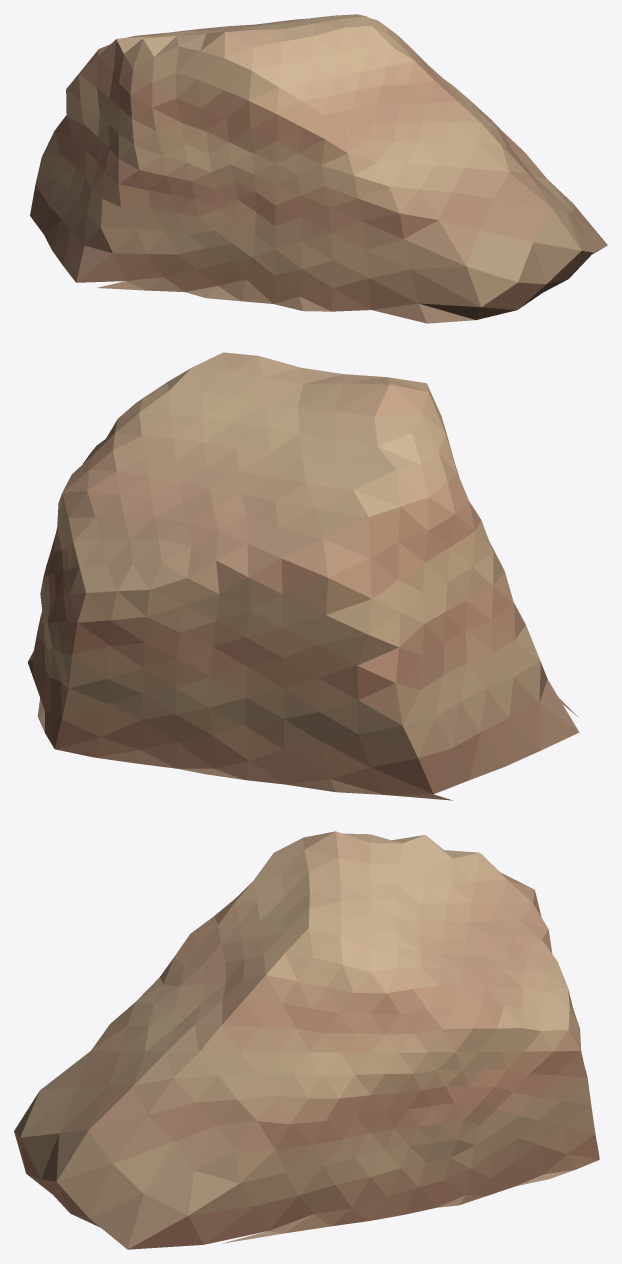
File: rock_2.glb
3 views of the same model, one above another, from view 1: azimuth 30°, elevation 25°; view 2: azimuth 150°, elevation 25°; view 3: azimuth 270°, elevation 25° (orthographic). The views are drawn at different scales.
Parts seen in each view (by area): view 1: rock; view 2: rock; view 3: rock.
Part boxes in pixels (<box>): rock: <box>30,14,607,323</box>; rock: <box>27,352,579,800</box>; rock: <box>14,831,599,1249</box>.
Size of the model in its own units: 3.4 by 1.55 by 3.29.
